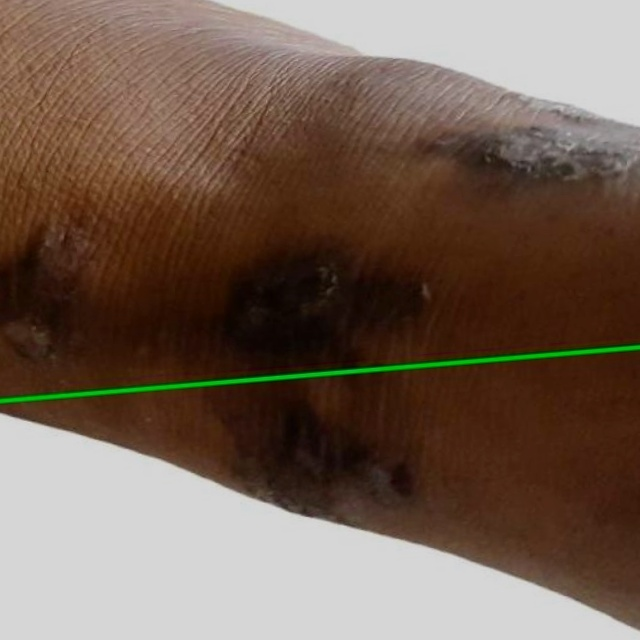Contact Dermatitis: (0, 346, 639, 639)
